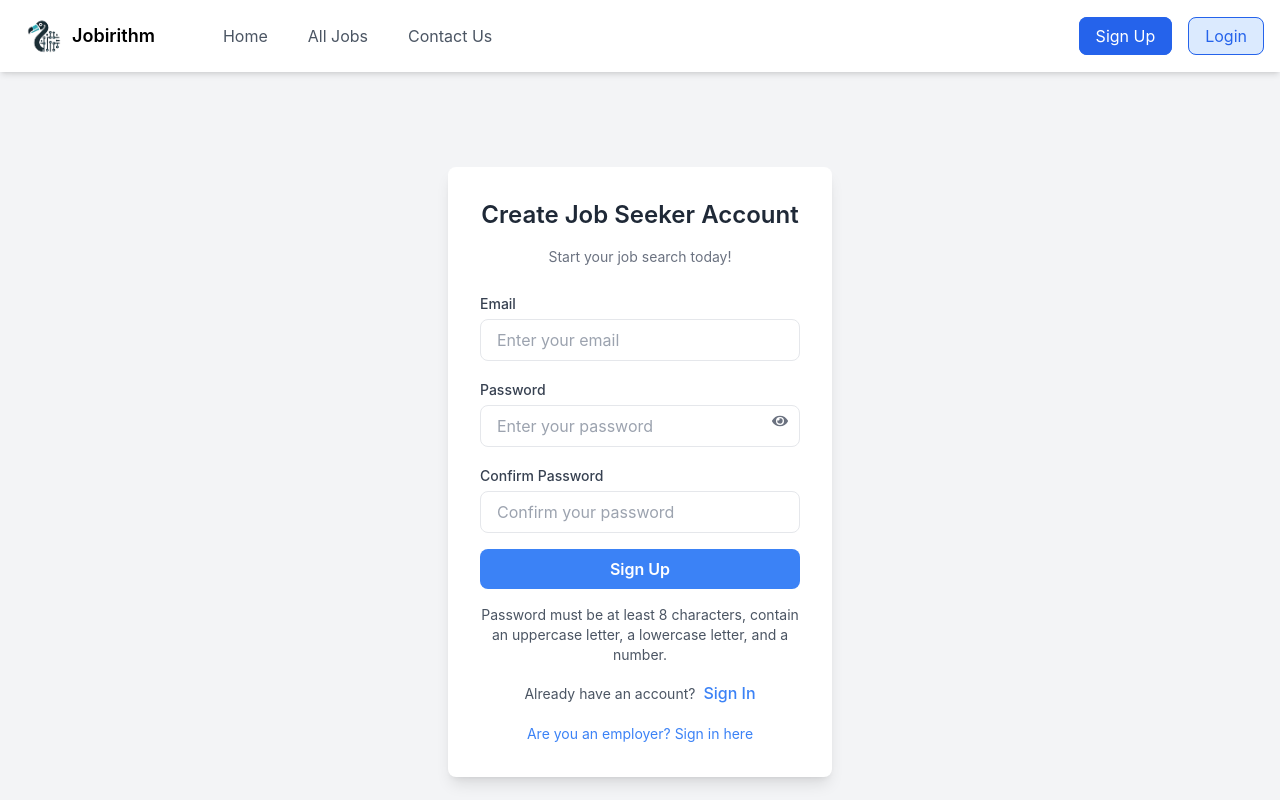
Test: AuthForm Component Tests › should show error for mismatched passwords
Step 1. Type "test@example.com" into the field with placeholder "Enter your email" → [640, 340], box [480,319,800,361]
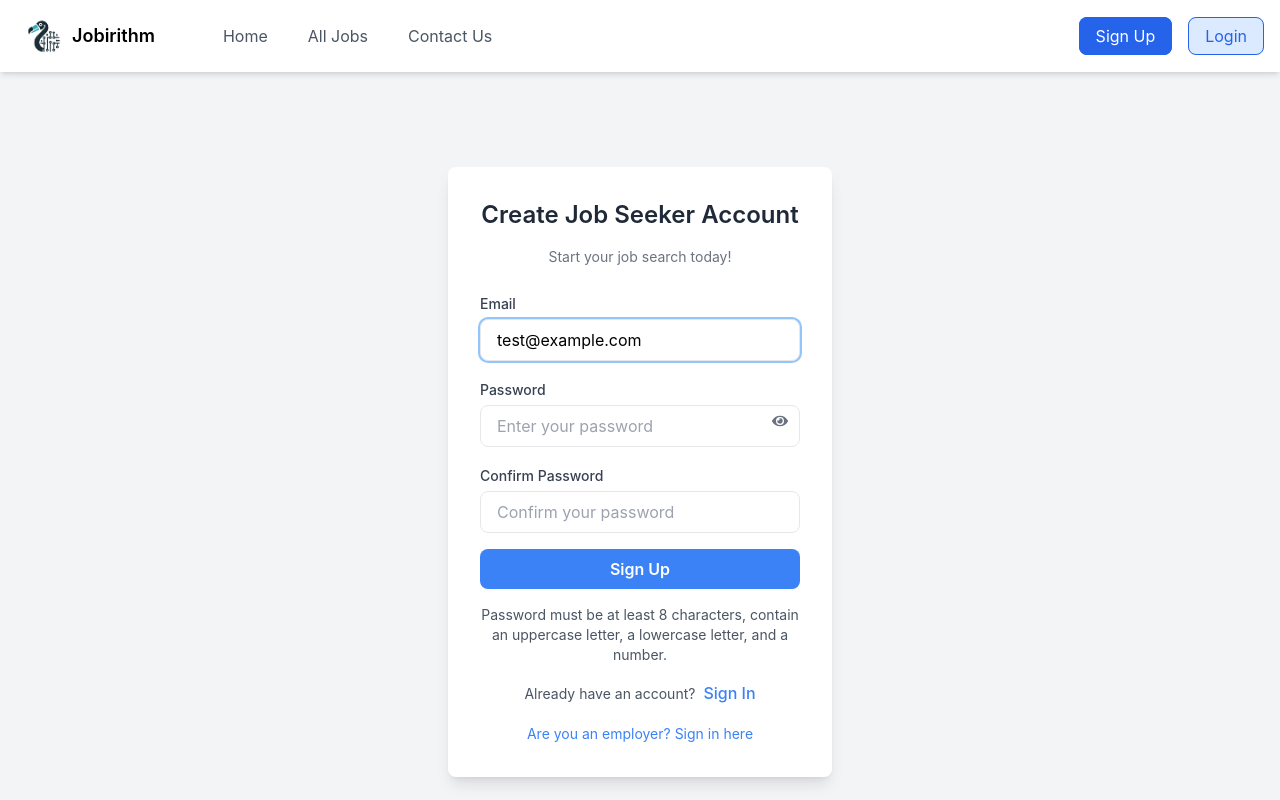
Step 2. Type "Password123" into the password field with placeholder "Enter your password" → [640, 426], box [480,405,800,447]
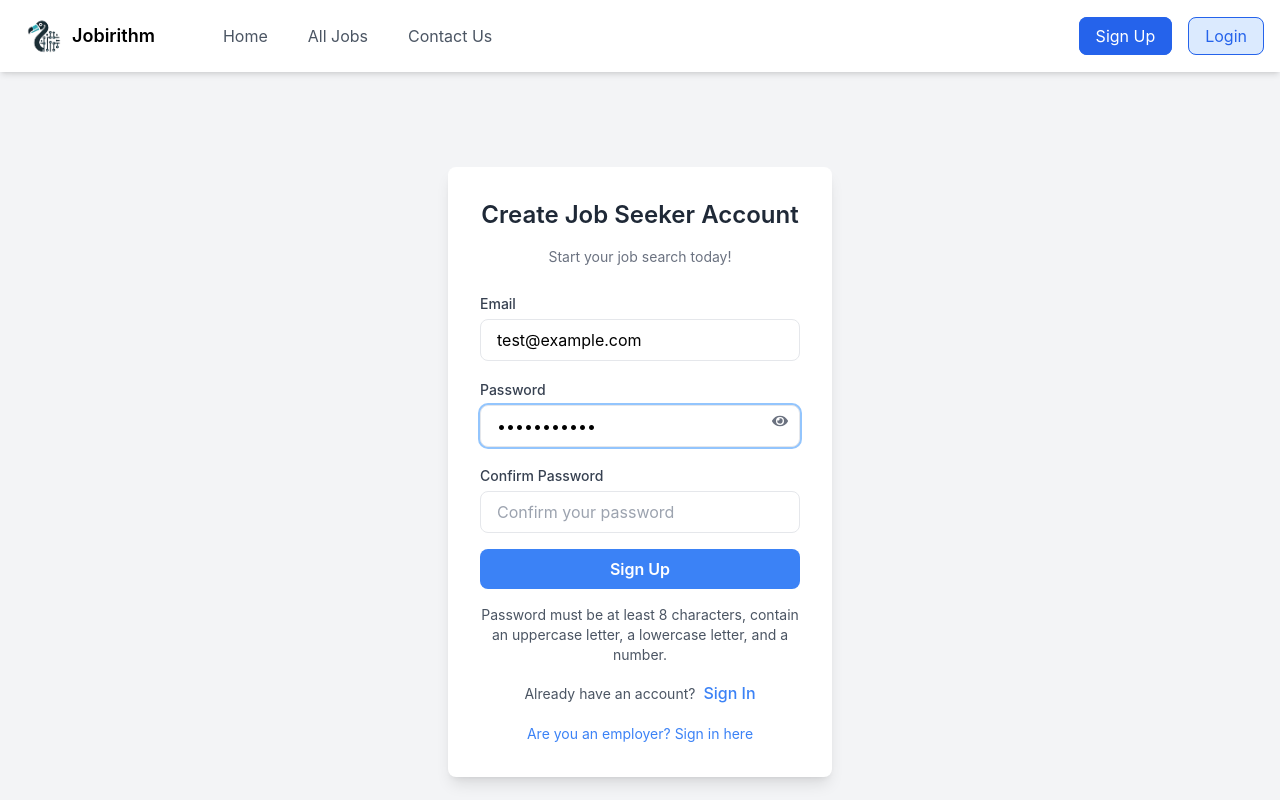
Step 3. Type "Password321" into the password field with placeholder "Confirm your password" → [640, 512], box [480,491,800,533]
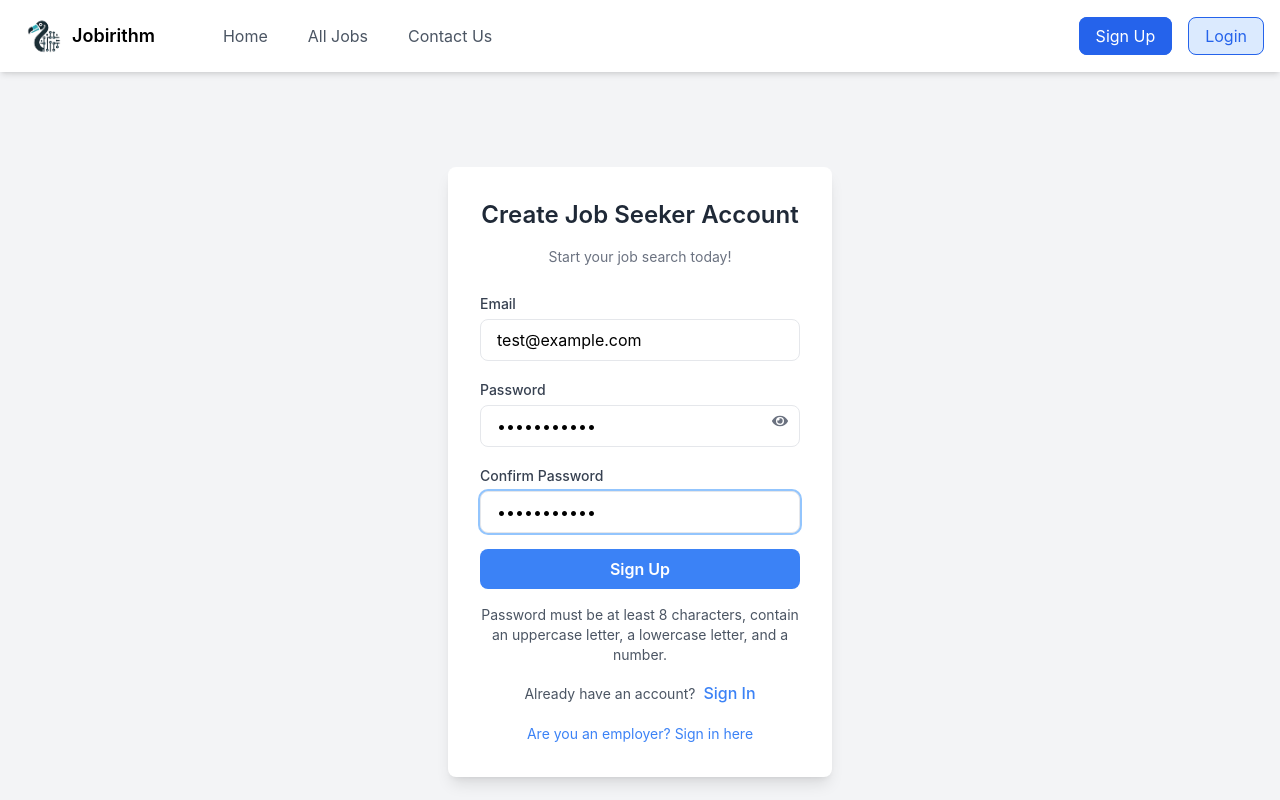
Step 4. Click the submit button → [640, 569], box [480,549,800,589]
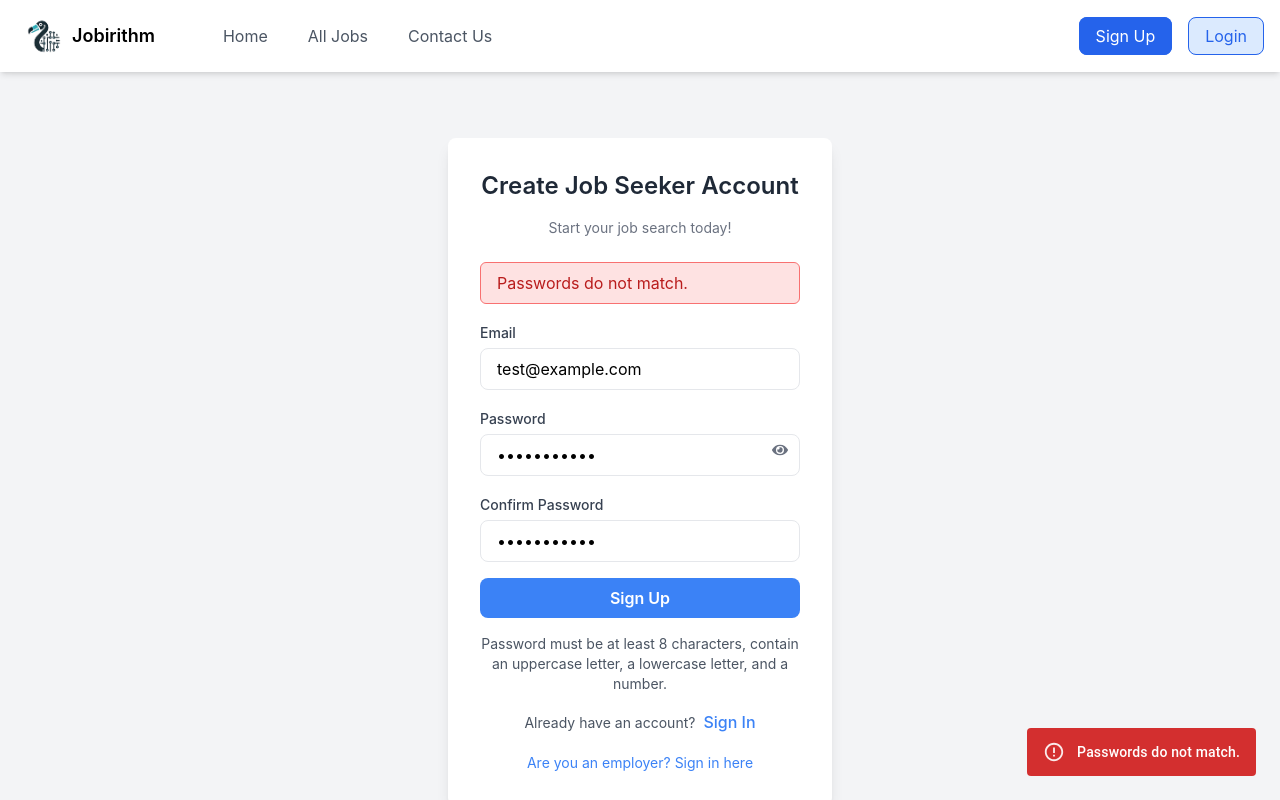
Check: the text "Passwords do not match." below "Start your job search today!" is shown, box [497,273,688,293]
